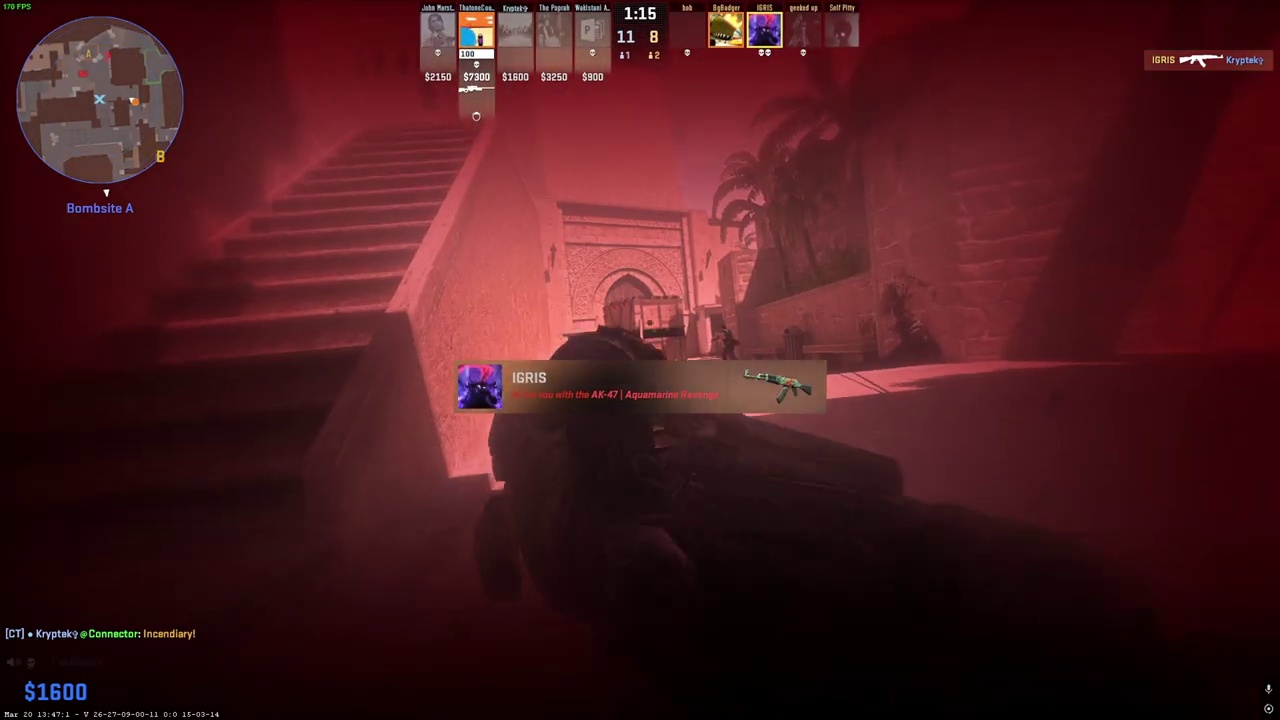Terrorist: (717, 325, 740, 361)
